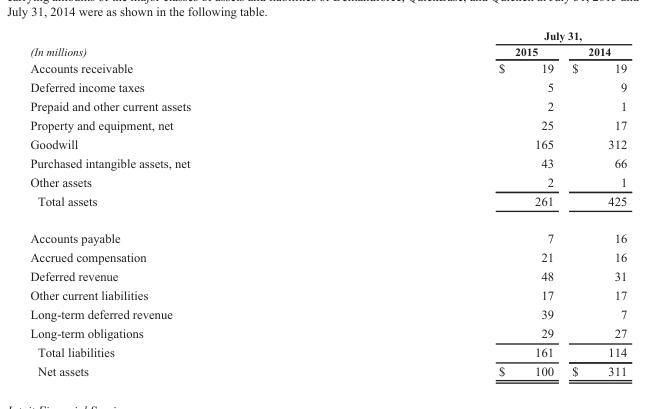table: (29, 29, 626, 377)
table column: (29, 29, 344, 377), (344, 29, 562, 377), (562, 29, 626, 377)
table column header: (29, 29, 626, 58)
table row: (29, 190, 626, 219), (29, 219, 626, 247), (29, 58, 626, 77), (29, 77, 626, 96), (29, 96, 626, 115), (29, 133, 626, 152), (29, 152, 626, 171), (29, 171, 626, 190), (29, 247, 626, 266), (29, 266, 626, 285), (29, 285, 626, 304), (29, 304, 626, 323), (29, 323, 626, 342), (29, 342, 626, 361), (29, 115, 626, 133), (29, 361, 626, 377), (29, 43, 626, 58), (29, 29, 626, 43)
table spanning cell: (29, 29, 344, 58), (344, 29, 626, 43)
